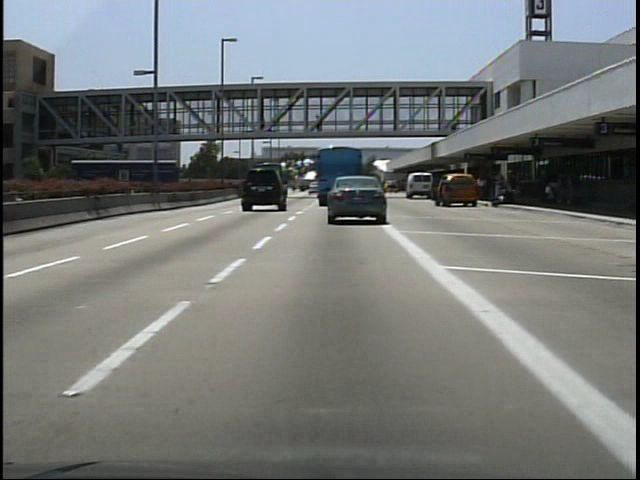person: (441, 177, 458, 214), (255, 111, 270, 134), (313, 113, 326, 139)
